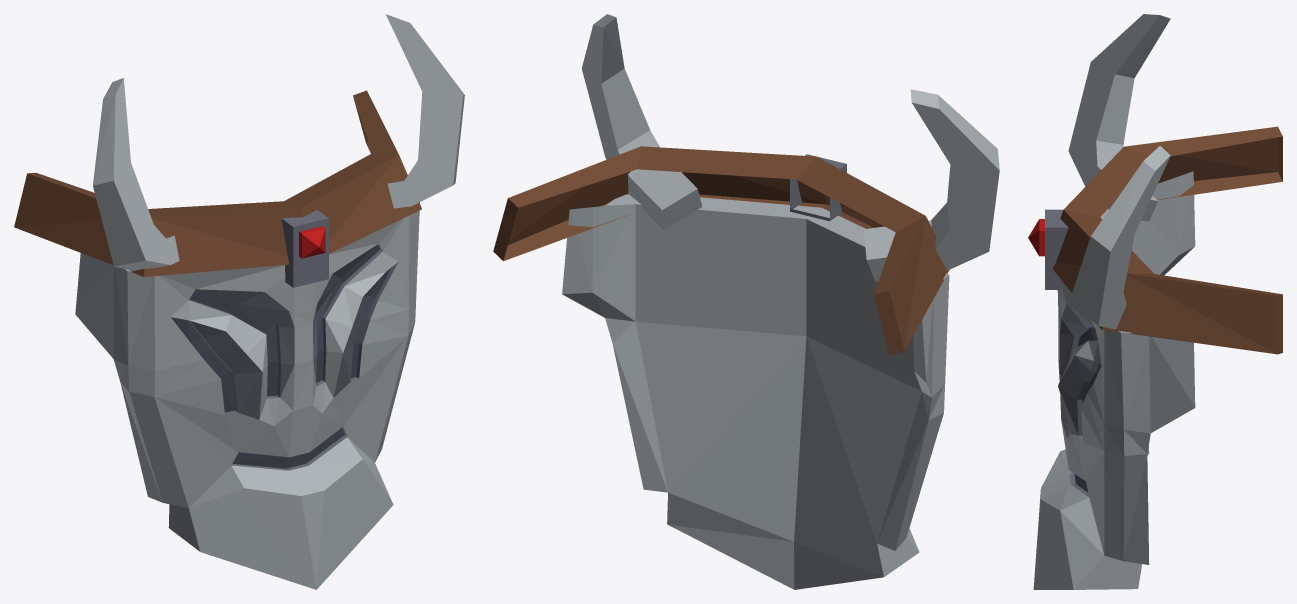
Rendered from RareNecromancerMask.dae.
3 renders of one model, left to right at view 1: azimuth 30°, elevation 25°; view 2: azimuth 150°, elevation 25°; view 3: azimuth 270°, elevation 25°, orthographic. The views are drawn at different scales.
Parts seen in each view (by area): view 1: Mask; view 2: Mask; view 3: Mask.
Boxes of the visible parts, box(x1,y1,x2,y2) form: Mask: box(14, 14, 464, 589); Mask: box(493, 14, 999, 589); Mask: box(1028, 14, 1282, 589).
Size of the model in its own units: 1.56 by 0.9086 by 2.
